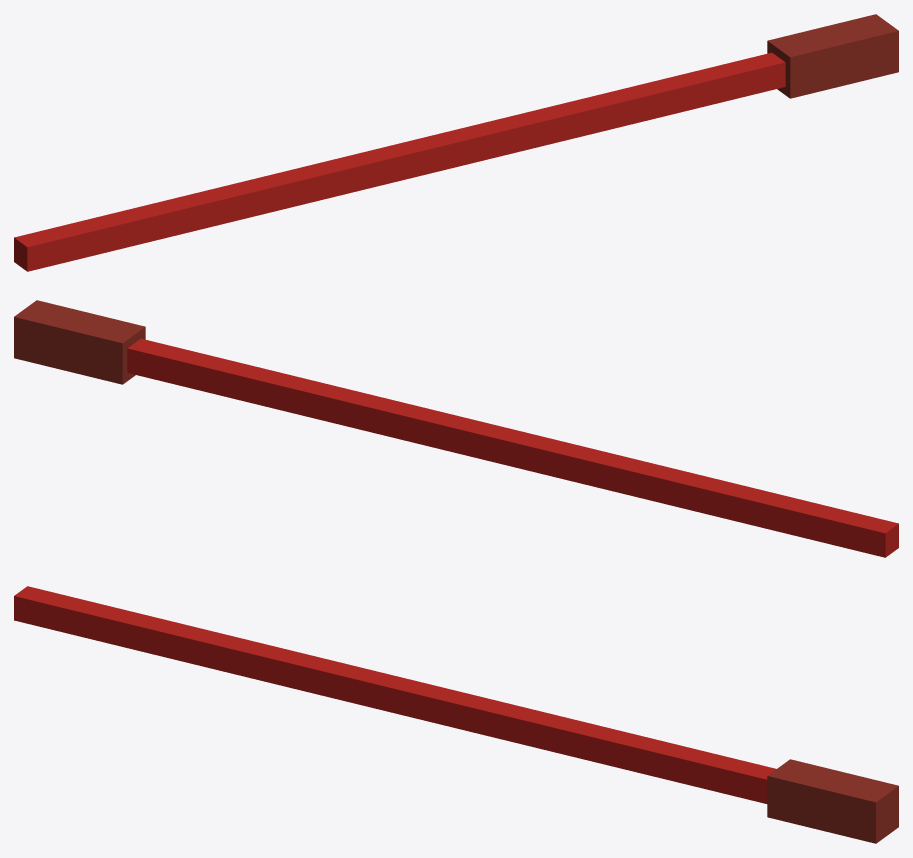
The model's file is Cable_E_1_2.fbx.
3 renders of one model, top to bottom at view 1: azimuth 30°, elevation 25°; view 2: azimuth 150°, elevation 25°; view 3: azimuth 330°, elevation 25°, orthographic.
Parts seen in each view (by area): view 1: Cable_E_1_2; view 2: Cable_E_1_2; view 3: Cable_E_1_2.
Part boxes in pixels (left/top/right/bottom): Cable_E_1_2: left=14, top=14, right=898, bottom=271; Cable_E_1_2: left=14, top=300, right=898, bottom=557; Cable_E_1_2: left=14, top=586, right=898, bottom=843.
Bounding box in the file's own units: 215 × 9.83 × 9.83.
